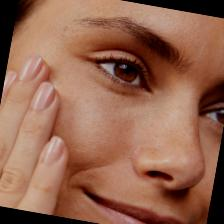Dry: (17, 0, 224, 224)
